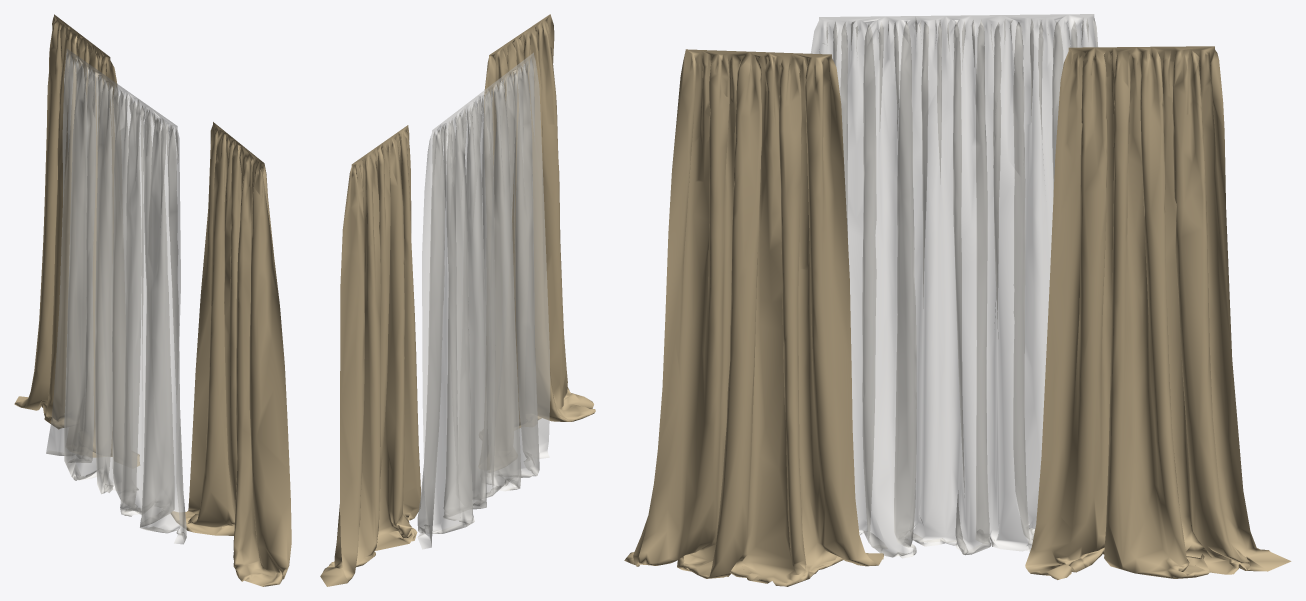
File: curtains.glb
3 renders of one model, left to right at view 1: azimuth 30°, elevation 25°; view 2: azimuth 150°, elevation 25°; view 3: azimuth 270°, elevation 25°, orthographic. The views are drawn at different scales.
Parts seen in each view (by area): view 1: sheer, fabric; view 2: sheer, fabric; view 3: fabric, sheer.
Part boxes in pixels (bbox=[...]): sheer: bbox=[46, 49, 186, 544]; fabric: bbox=[14, 14, 291, 586]; sheer: bbox=[417, 52, 550, 549]; fabric: bbox=[320, 14, 595, 586]; fabric: bbox=[624, 46, 1291, 586]; sheer: bbox=[811, 14, 1097, 558].
Bounding box in the file's own units: 0.5943 × 2.6 × 2.97.
